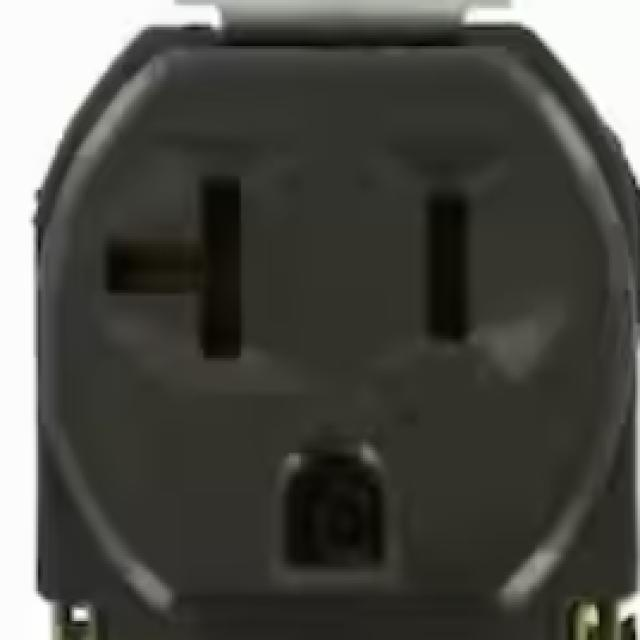type_b_tc: (36, 39, 640, 622)
